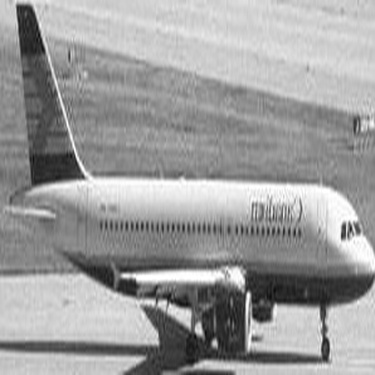airplane: (2, 1, 366, 372)
